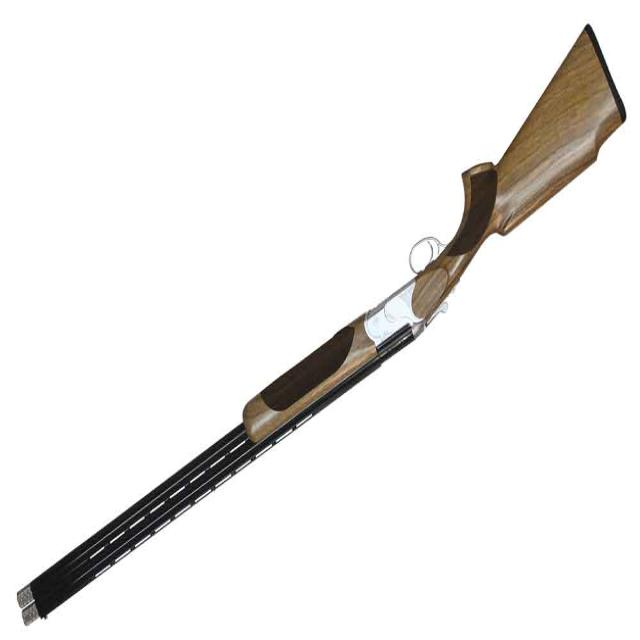Weapon: (11, 8, 628, 634)
